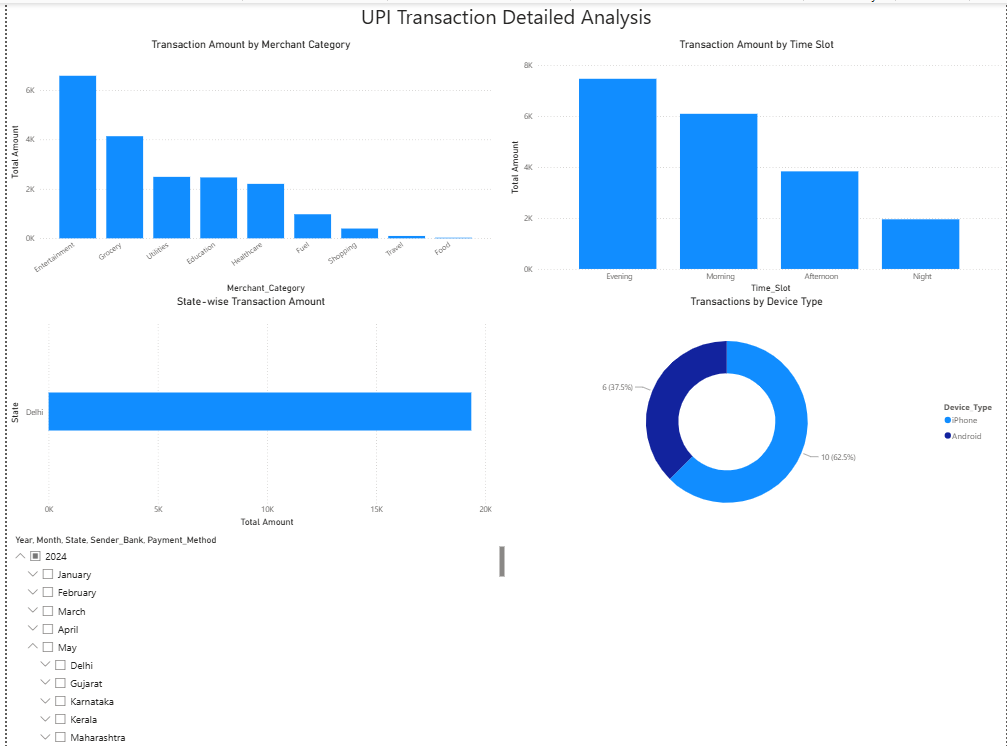

The dashboard page shown, as its layout file describes it:
{"tool":"powerbi","page":{"name":"Detailed Analysis","canvas":[1600,1200],"ordinal":1},"visuals":[{"type":"textbox","box":[340.2,0,917.7,60.4],"z":0},{"type":"clusteredColumnChart","title":"Transaction Amount by Merchant Category","fields":{"Category":["cleaned_upi_transactions.Merchant_Category"],"Y":["cleaned_upi_transactions.Total Amount"]},"box":[0,61.1,780.6,413.7],"z":1},{"type":"clusteredColumnChart","title":"Transaction Amount by Time Slot","fields":{"Category":["cleaned_upi_transactions.Time_Slot"],"Y":["cleaned_upi_transactions.Total Amount"]},"box":[801,61.1,798.9,413.7],"z":2},{"type":"clusteredBarChart","title":"State-wise Transaction Amount","fields":{"Y":["cleaned_upi_transactions.Total Amount"],"Category":["cleaned_upi_transactions.State"]},"box":[0,474.9,780.6,375],"z":3},{"type":"donutChart","title":"Transactions by Device Type","fields":{"Category":["cleaned_upi_transactions.Device_Type"],"Y":["CountNonNull(cleaned_upi_transactions.Transaction_ID)"]},"box":[801,474.9,798.9,375],"z":4},{"type":"slicer","fields":{"Values":["cleaned_upi_transactions.Year","cleaned_upi_transactions.Month","cleaned_upi_transactions.State","cleaned_upi_transactions.Sender_Bank","cleaned_upi_transactions.Payment_Method"]},"box":[0,851.1,801.3,349.2],"z":5}]}

Visuals, with their boxes in screenshot pixels (x1, y1, x2, y2), scaled from the page's 1600x1200 canvas onto the 1007x746 screenshot:
textbox: <bbox>214, 0, 792, 38</bbox>
"Transaction Amount by Merchant Category" clusteredColumnChart: <bbox>0, 38, 491, 295</bbox>
"Transaction Amount by Time Slot" clusteredColumnChart: <bbox>504, 38, 1006, 295</bbox>
"State-wise Transaction Amount" clusteredBarChart: <bbox>0, 295, 491, 528</bbox>
"Transactions by Device Type" donutChart: <bbox>504, 295, 1006, 528</bbox>
slicer - cleaned_upi_transactions.Year x cleaned_upi_transactions.Month: <bbox>0, 529, 504, 745</bbox>
